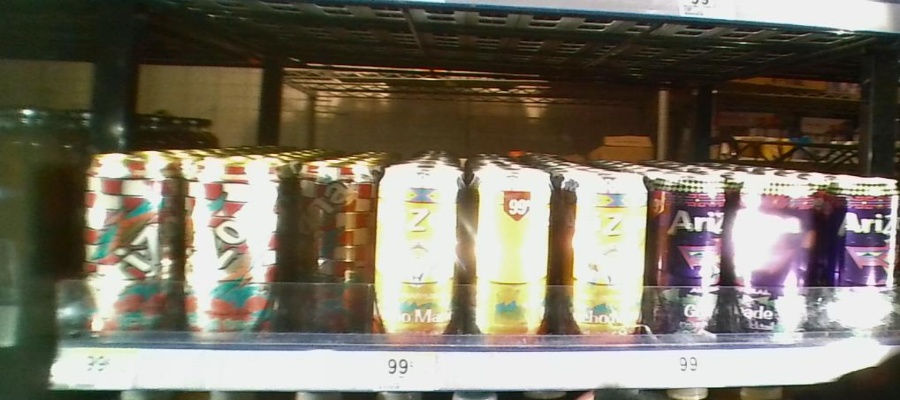bottle: (74, 141, 179, 345), (181, 150, 285, 351), (464, 166, 562, 350), (730, 163, 823, 338), (376, 158, 460, 345), (289, 152, 374, 336), (566, 165, 653, 344), (654, 168, 728, 338), (827, 172, 900, 339)
